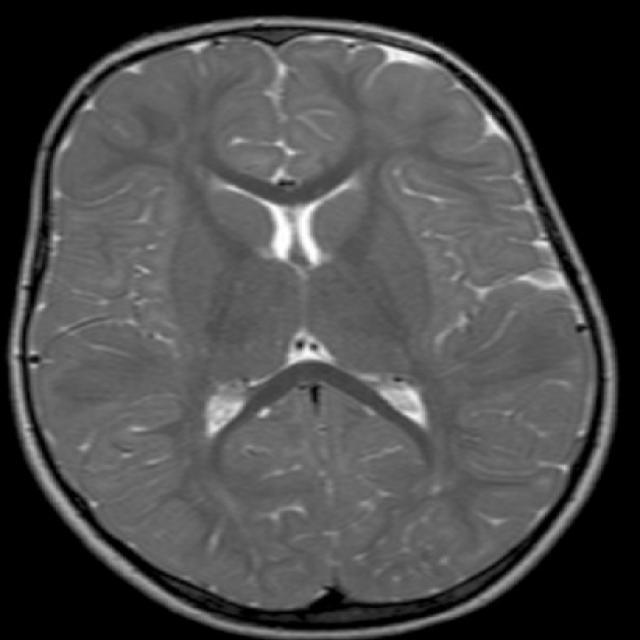No_Tumor: (12, 21, 616, 638)
